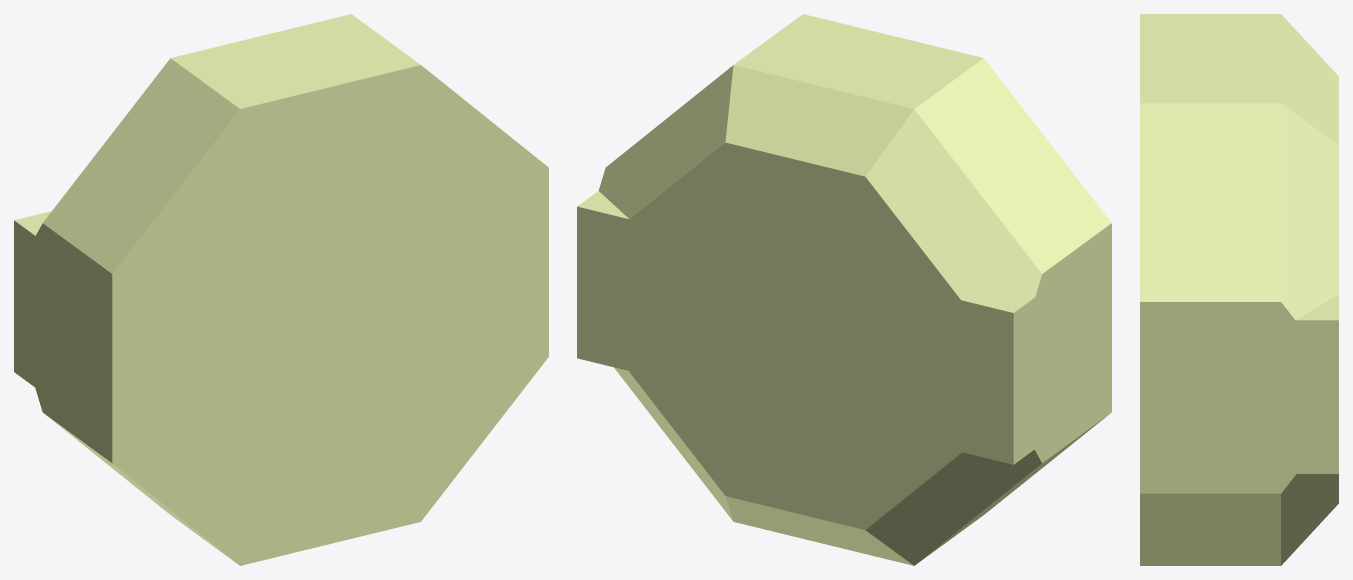
3 renders of one model, left to right at view 1: azimuth 30°, elevation 25°; view 2: azimuth 150°, elevation 25°; view 3: azimuth 270°, elevation 25°, orthographic.
Visible parts, largest first — view 1: (Clone); view 2: (Clone); view 3: (Clone).
Part boxes in pixels (x1,y1,x2,y2): (Clone): (14, 14, 548, 565); (Clone): (577, 14, 1111, 565); (Clone): (1140, 14, 1338, 565).
Bounding box in the file's own units: 62.39 × 62.4 × 24.3.
